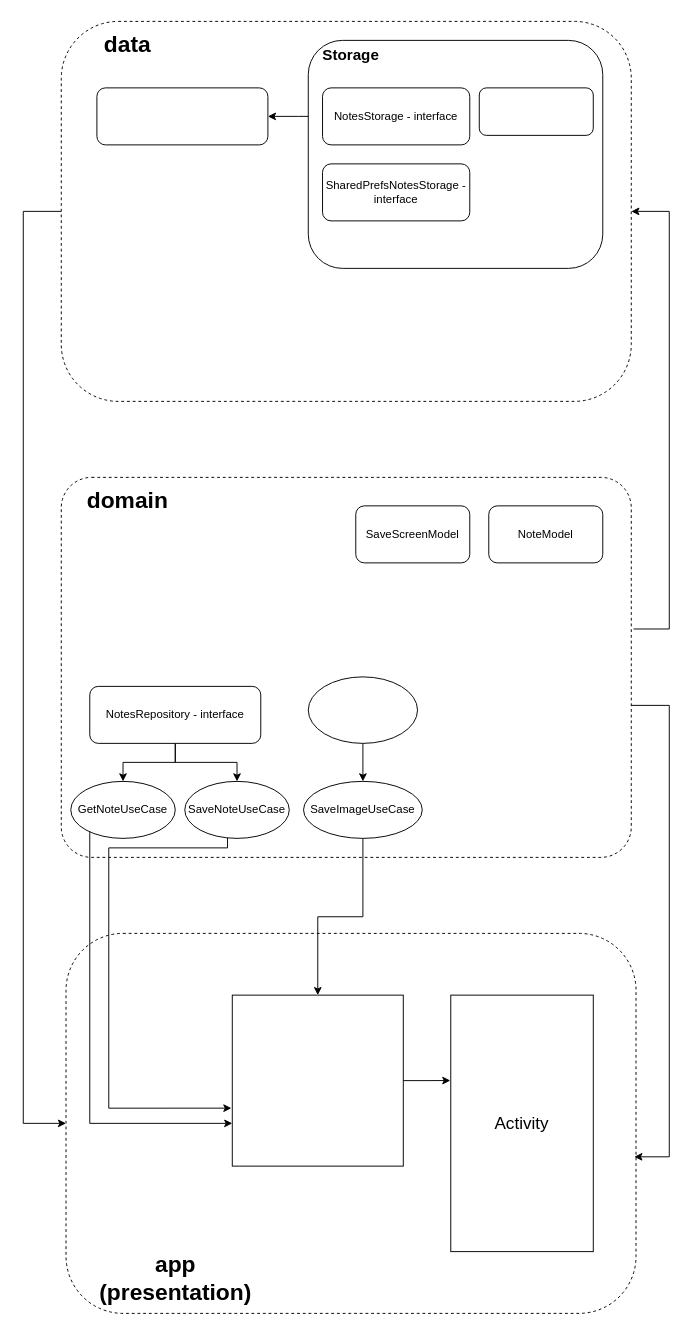
Image size: 694x1337. Some labels were removed from this diagram. Here are the shapes that lost their labels. From the top down, the centre of each, then its label:
At point (182, 116): "NotesRepository - implementation".
At point (535, 111): "NoteParamsModel".
At point (362, 709): "CreateImage".
At point (317, 1080): "View Model".
